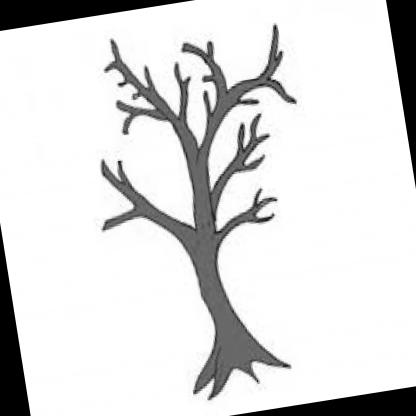branch_cut: (74, 12, 318, 269)
root_only: (184, 322, 292, 400)
trunk_reflex: (188, 247, 250, 338)
